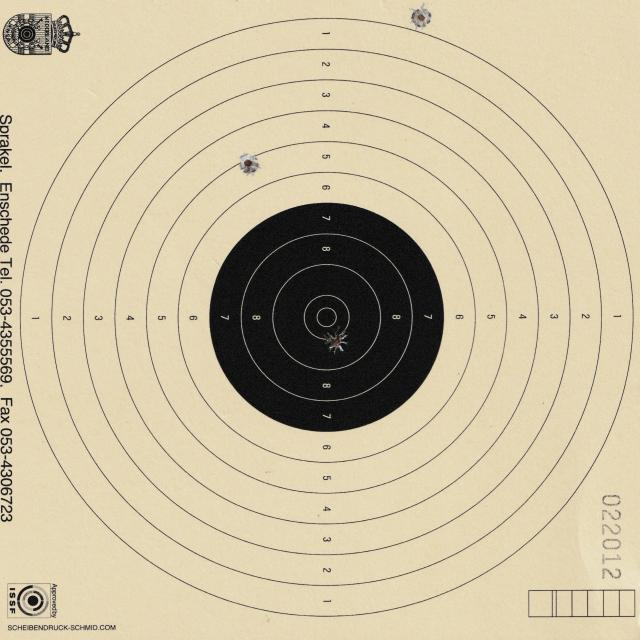0: (410, 5, 434, 31)
10: (325, 330, 349, 352)
5: (238, 154, 262, 176)
Target: (17, 17, 637, 621)
black_contour: (210, 202, 444, 434)
